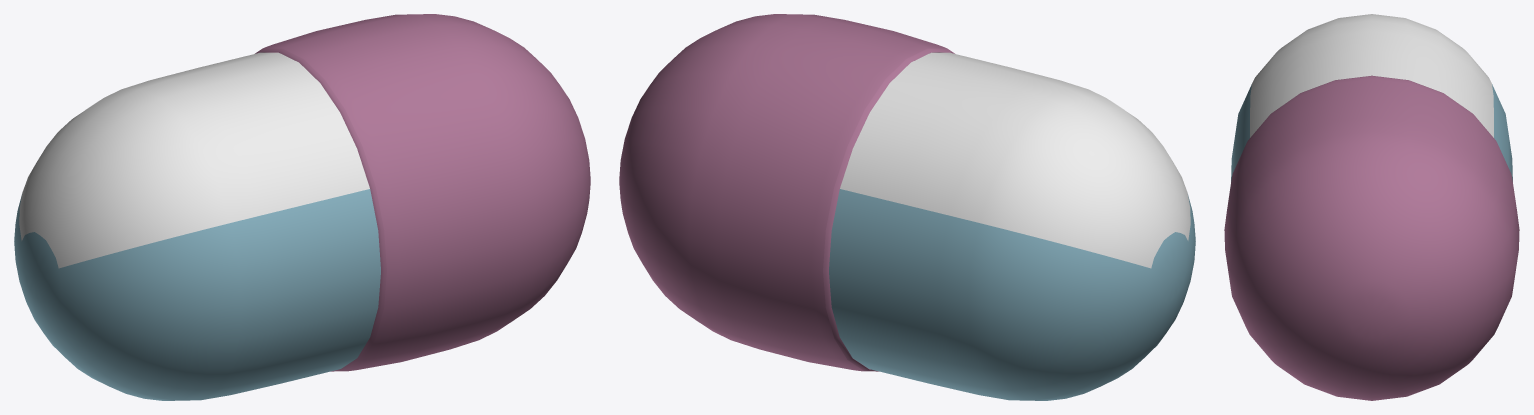
3 views of the same model, side by side, from view 1: azimuth 30°, elevation 25°; view 2: azimuth 150°, elevation 25°; view 3: azimuth 270°, elevation 25° (orthographic). The views are drawn at different scales.
Visible parts, largest first — view 1: jiaonang; view 2: jiaonang; view 3: jiaonang.
Part boxes in pixels (x1=…): jiaonang: x1=14, y1=14, x2=590, y2=400; jiaonang: x1=619, y1=14, x2=1195, y2=400; jiaonang: x1=1224, y1=14, x2=1519, y2=400.
Bounding box in the file's own units: 16.07 × 8.9 × 8.9.
